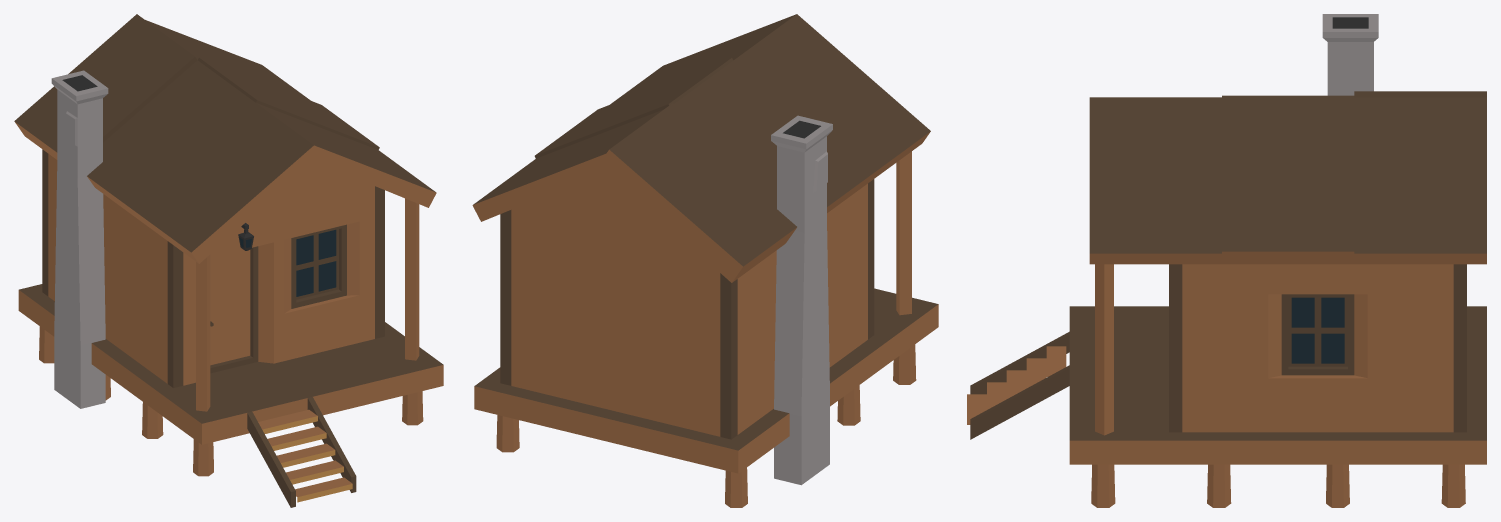
Rendered from building-cabin-small.glb.
3 views of the same model, side by side, from view 1: azimuth 30°, elevation 25°; view 2: azimuth 150°, elevation 25°; view 3: azimuth 270°, elevation 25° (orthographic). The views are drawn at different scales.
Visible parts, largest first — view 1: building-cabin-small; view 2: building-cabin-small; view 3: building-cabin-small.
Boxes of the visible parts, bbox=[...] form: building-cabin-small: bbox=[14, 14, 443, 507]; building-cabin-small: bbox=[472, 14, 938, 507]; building-cabin-small: bbox=[967, 14, 1486, 507].
Bounding box in the file's own units: 4.38 × 5.05 × 6.67.
Materials: 1 (1 with a texture image).
